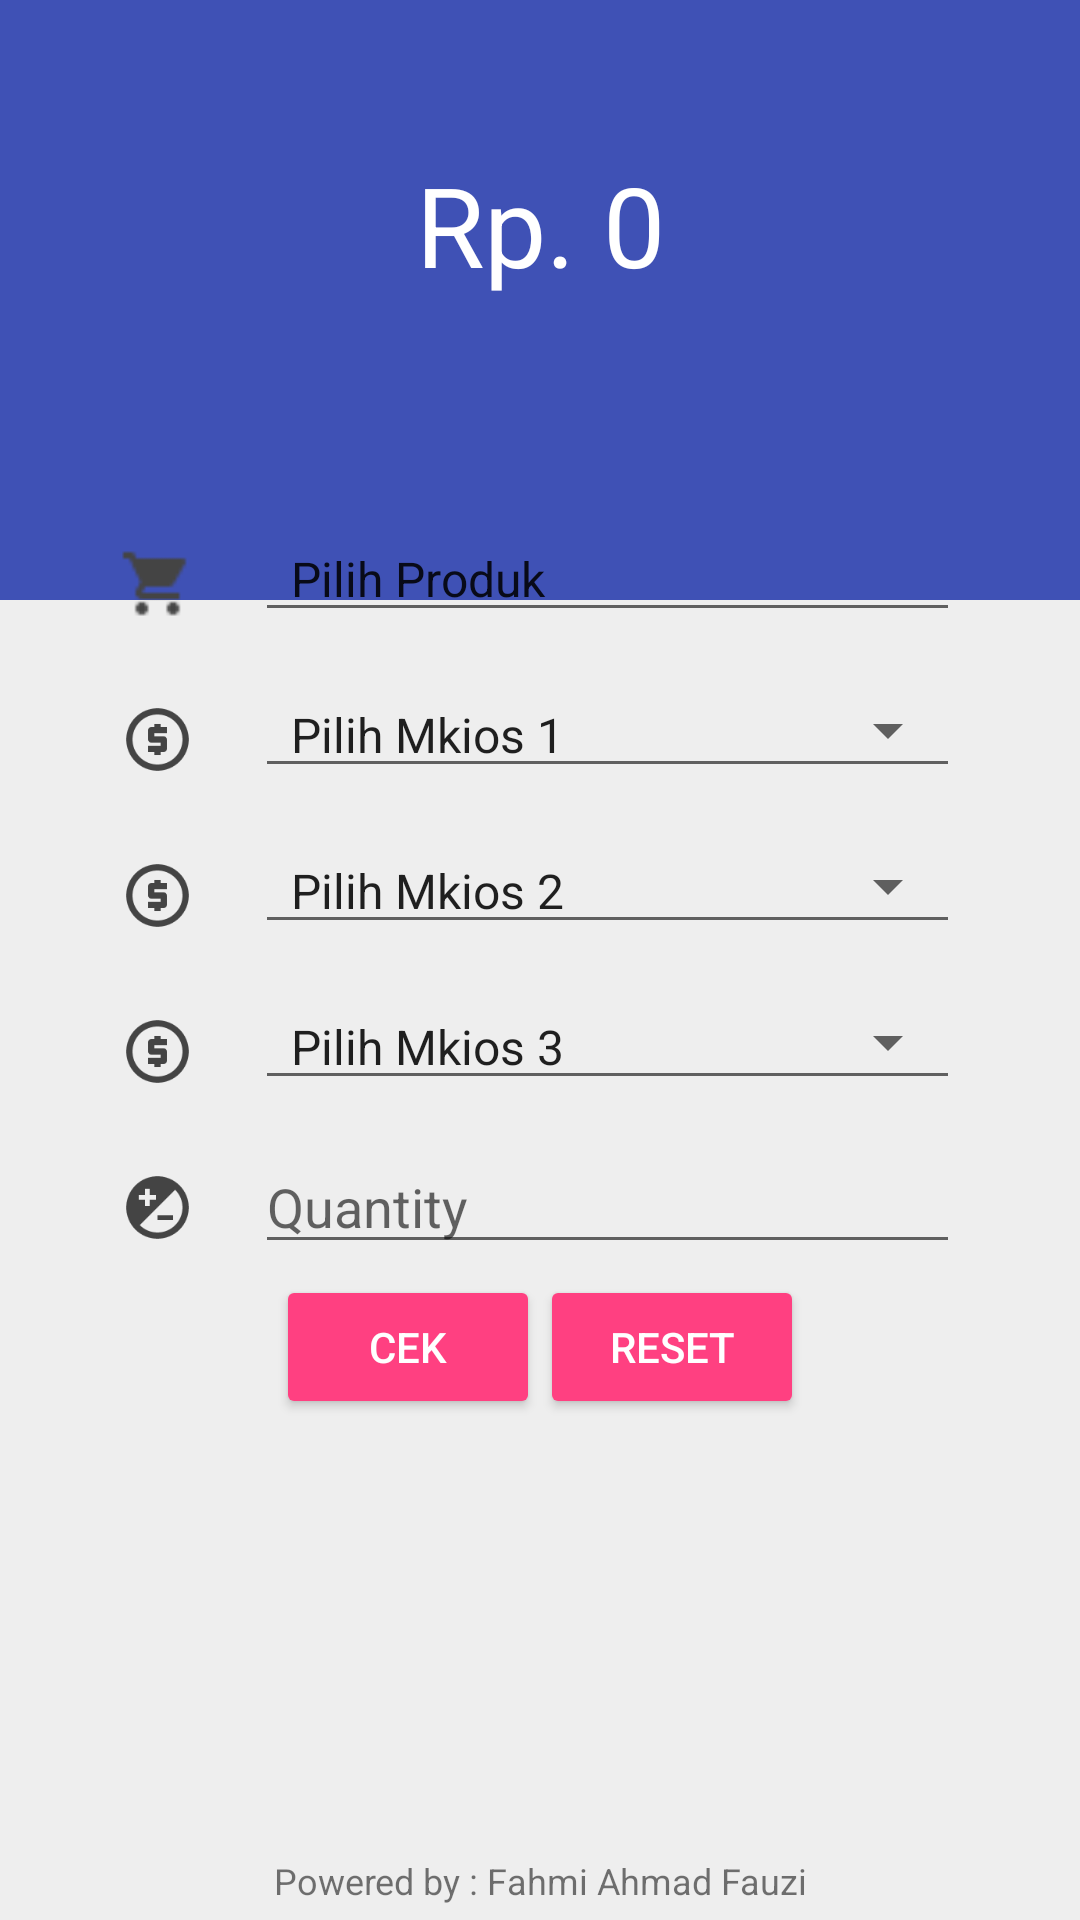

Icon bounding boxes for this 1080w x 1920h phone screenshot, format (x1, y1, x2, y2):
coin: (126, 708, 189, 771), (126, 864, 189, 927), (126, 1020, 189, 1083)
contrast circle: (126, 1176, 189, 1239)
